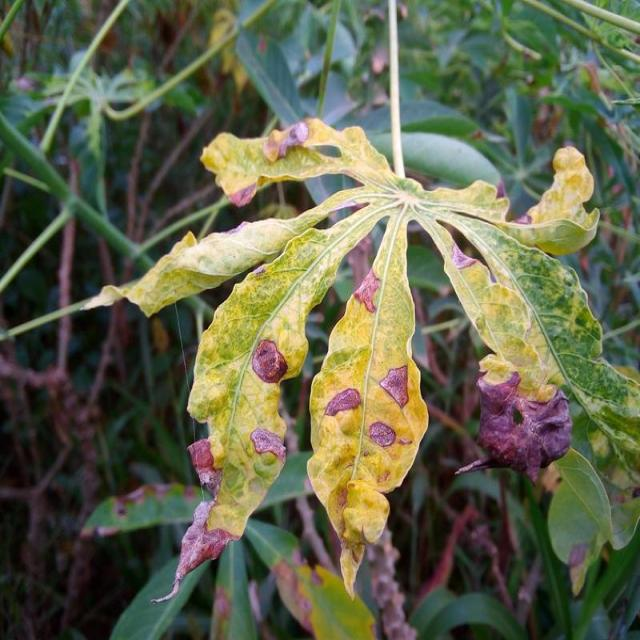cassava leaf: (89, 115, 636, 605)
